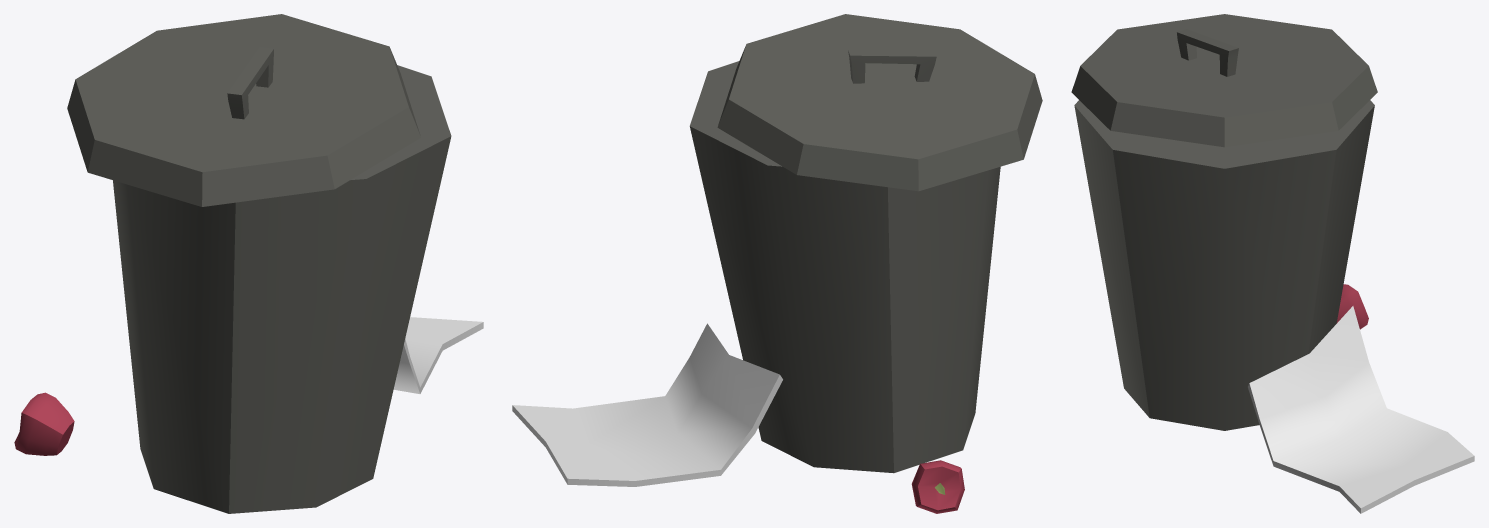
Rendered from trash.fbx.
The picture shows the model from 3 angles, left to right: view 1: azimuth 30°, elevation 25°; view 2: azimuth 150°, elevation 25°; view 3: azimuth 270°, elevation 25°; orthographic projection. The views are drawn at different scales.
Visible parts, largest first — view 1: pCube26, pCube27, pCube29, pCube30, pCube28; view 2: pCube26, pCube27, pCube29, pCube30, pCube28; view 3: pCube26, pCube27, pCube29, pCube28, pCube30.
Part boxes in pixels (<box>): pCube26: <box>113,65,451,513</box>; pCube27: <box>67,14,420,206</box>; pCube29: <box>393,317,483,393</box>; pCube30: <box>14,392,74,455</box>; pCube28: <box>227,47,273,119</box>; pCube26: <box>689,61,1000,473</box>; pCube27: <box>717,14,1042,191</box>; pCube29: <box>512,323,782,486</box>; pCube30: <box>911,460,964,513</box>; pCube28: <box>848,49,936,83</box>; pCube26: <box>1074,100,1374,430</box>; pCube27: <box>1071,14,1377,147</box>; pCube29: <box>1248,306,1474,513</box>; pCube28: <box>1176,29,1238,76</box>; pCube30: <box>1336,284,1368,329</box>.
Size of the model in its own units: 9.55 by 7.85 by 8.26.
